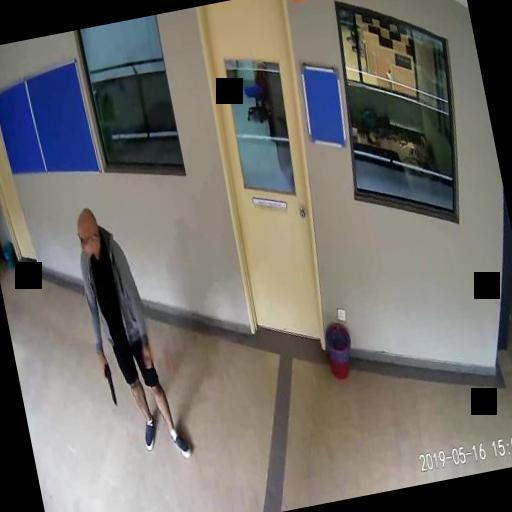Handgun: (98, 358, 116, 405)
